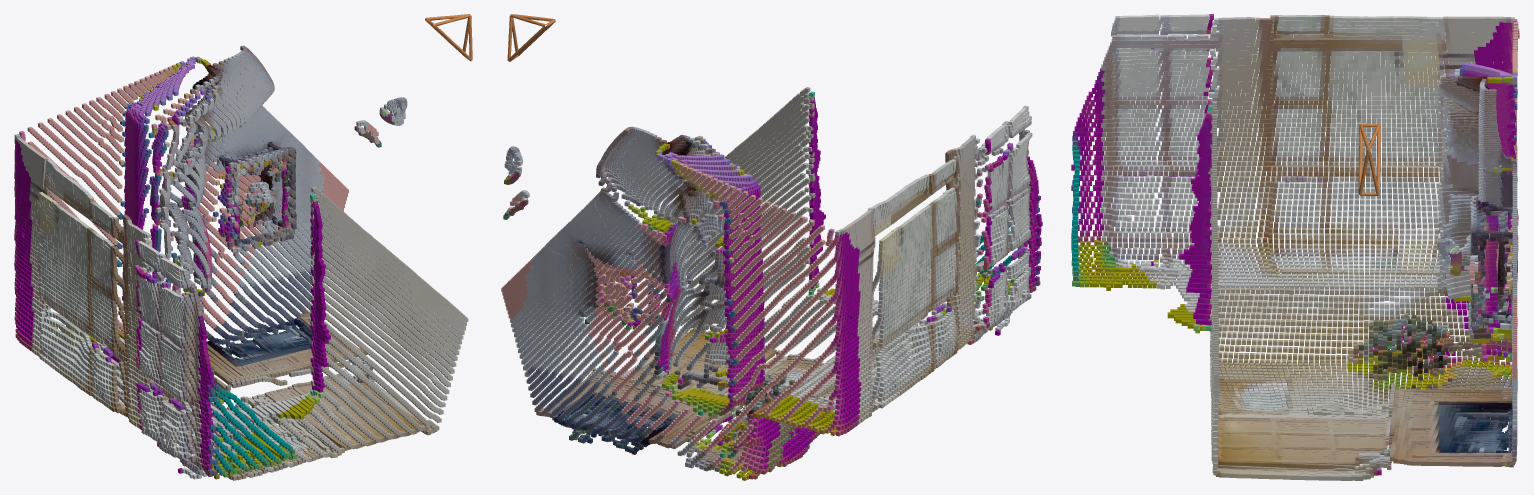
The picture shows the model from 3 angles, left to right: view 1: azimuth 30°, elevation 25°; view 2: azimuth 150°, elevation 25°; view 3: azimuth 270°, elevation 25°; orthographic projection. The views are drawn at different scales.
Size of the model in its own units: 5.88 by 4.88 by 5.
